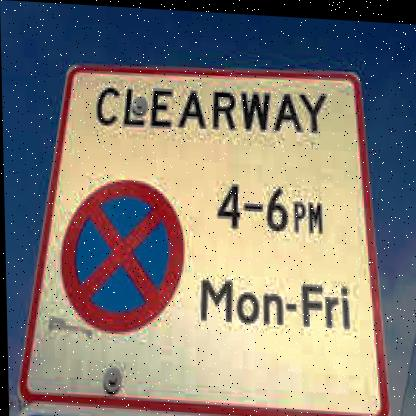No stopping: (56, 169, 188, 329)
